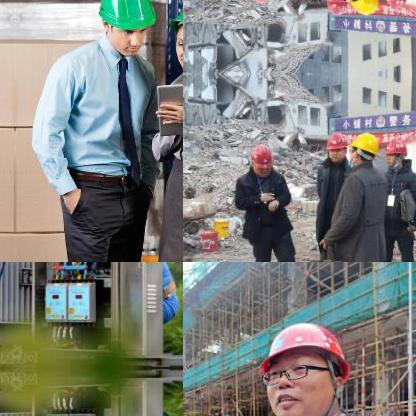Helmet: (250, 302, 355, 415), (87, 0, 166, 65), (163, 0, 182, 73), (348, 130, 376, 165), (247, 142, 271, 176), (383, 136, 405, 168), (324, 131, 346, 161), (347, 0, 378, 16), (382, 0, 406, 10)
